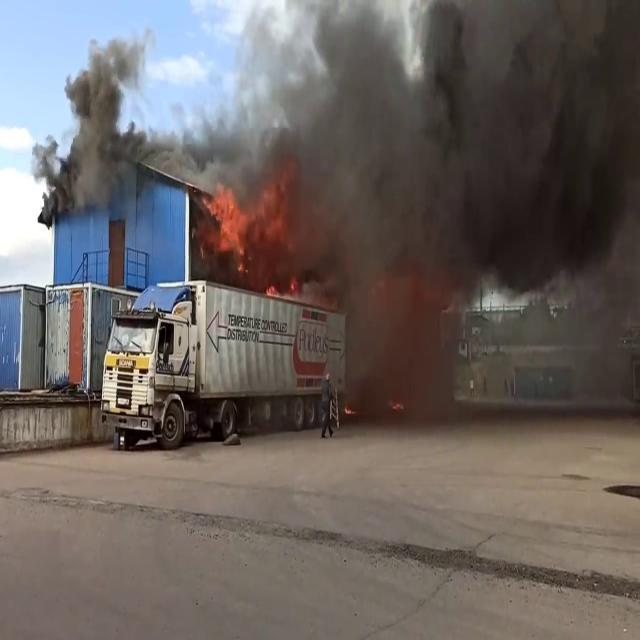Fire: (206, 178, 300, 282)
Smoke: (295, 1, 640, 401), (38, 19, 162, 218)
